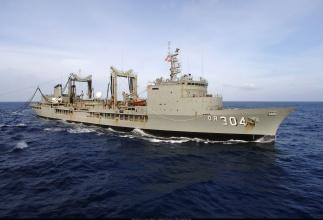warship: (28, 46, 303, 144)
